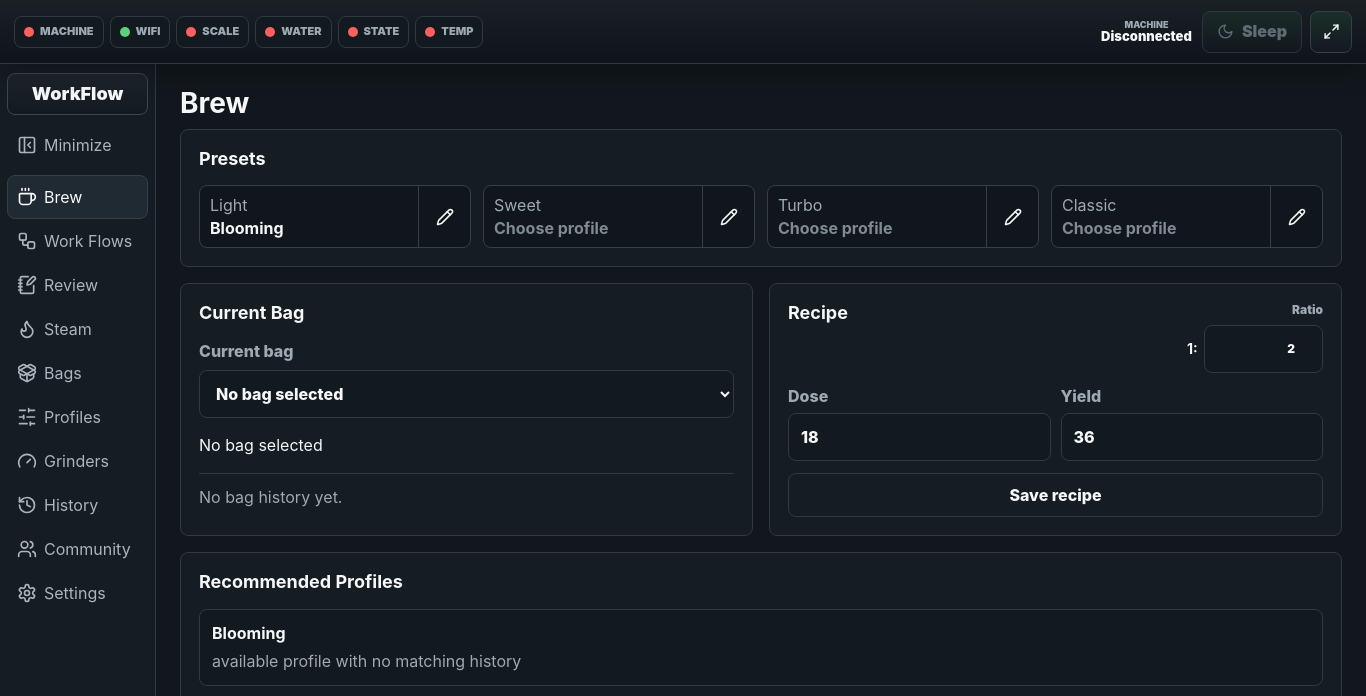
App shell › has a dedicated menu item for profiles
Click the button "Profiles" at (78, 417), box [7,395,148,439]
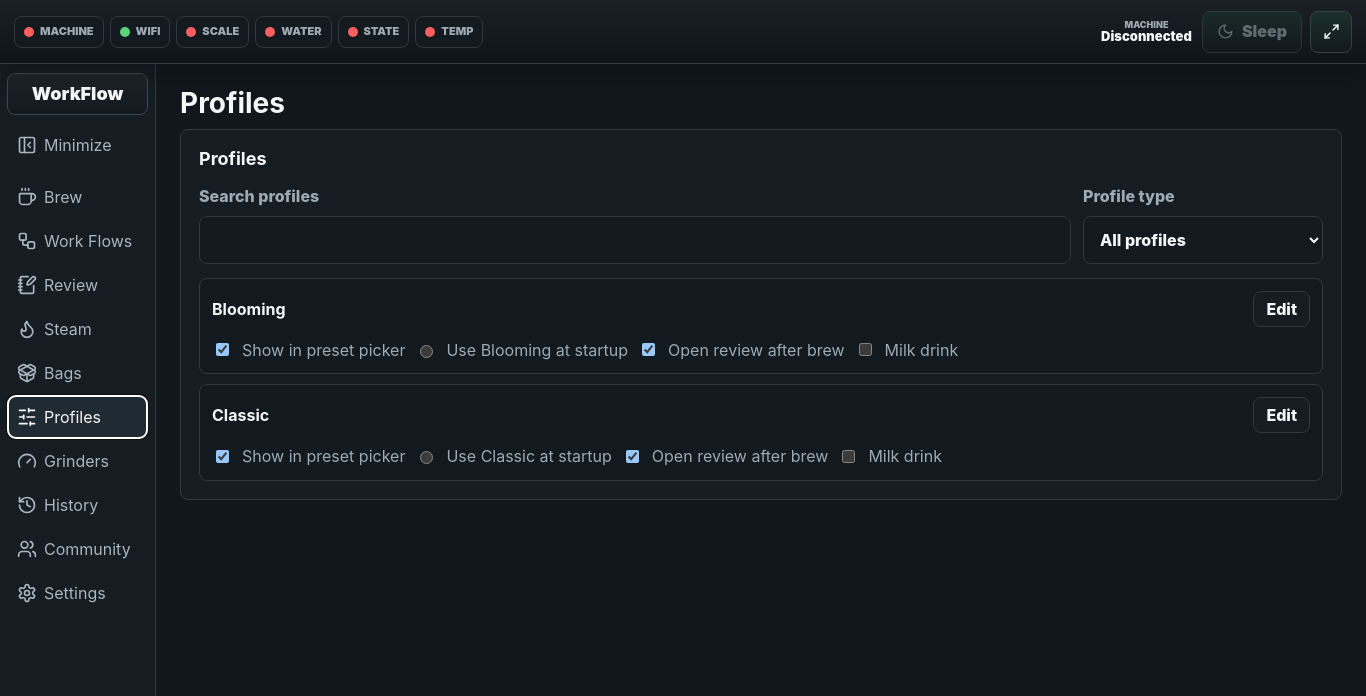
Expected: the 1st heading "Profiles" is shown, [180,86,285,120]
Expected: the element named "Blooming profile workflow" is shown, [199,278,1323,374]
